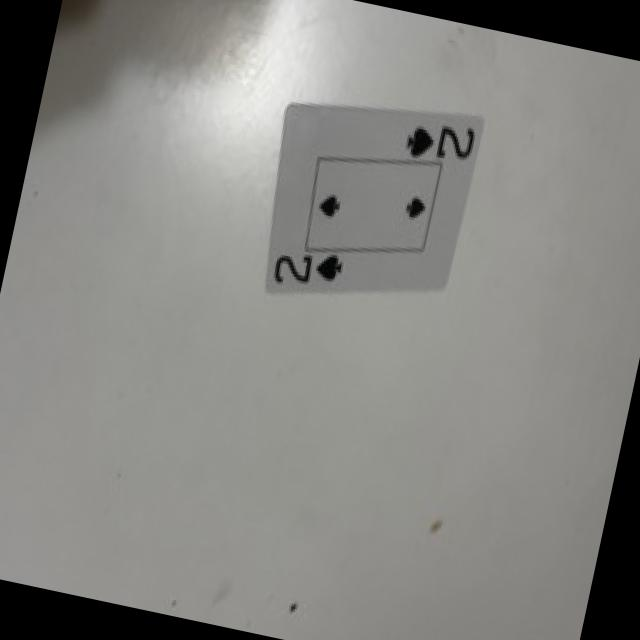2 of spades: (266, 104, 482, 292)
